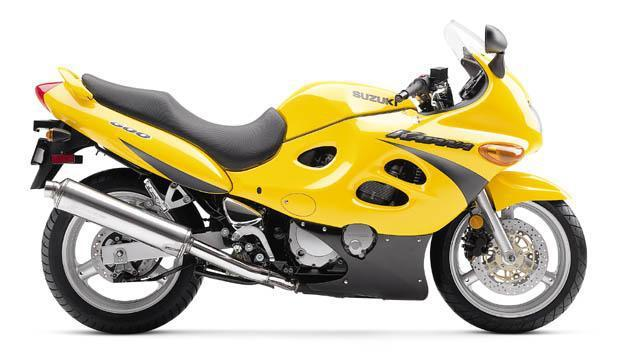Motorcycle: (23, 0, 599, 347)
